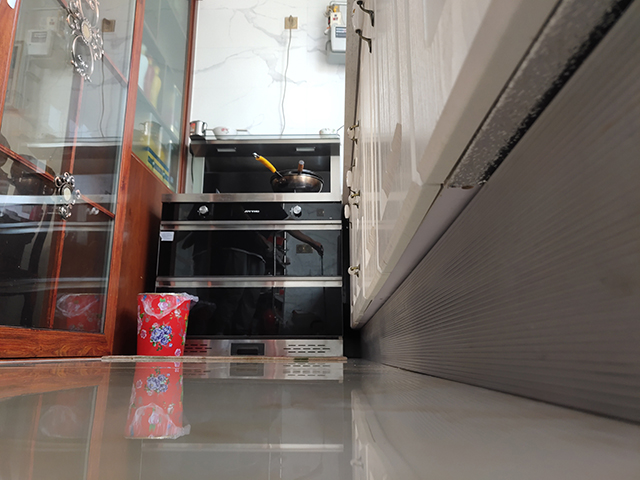cabinet: (339, 1, 640, 424)
carpet: (99, 354, 348, 363)
trashcan: (135, 292, 195, 356)
